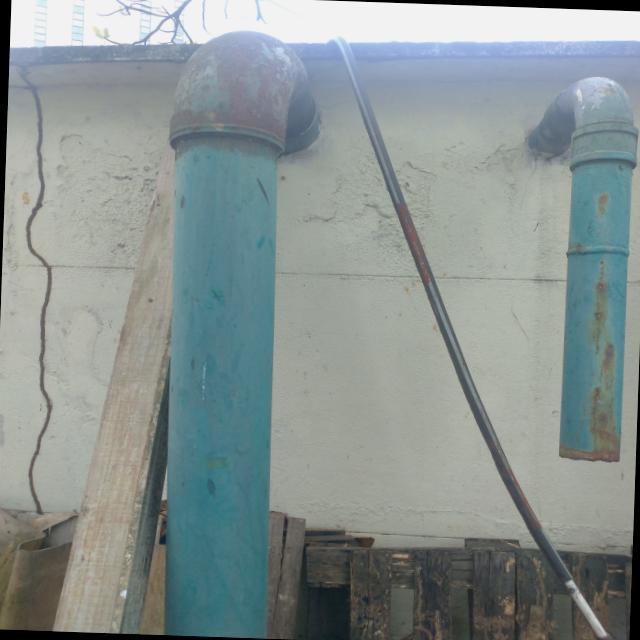gas: (166, 34, 322, 638), (528, 75, 639, 460)
